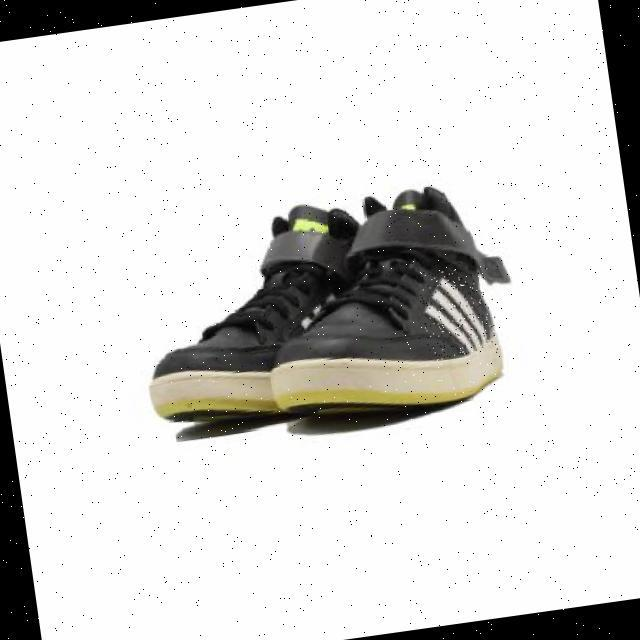Adidas: (418, 263, 501, 362)
